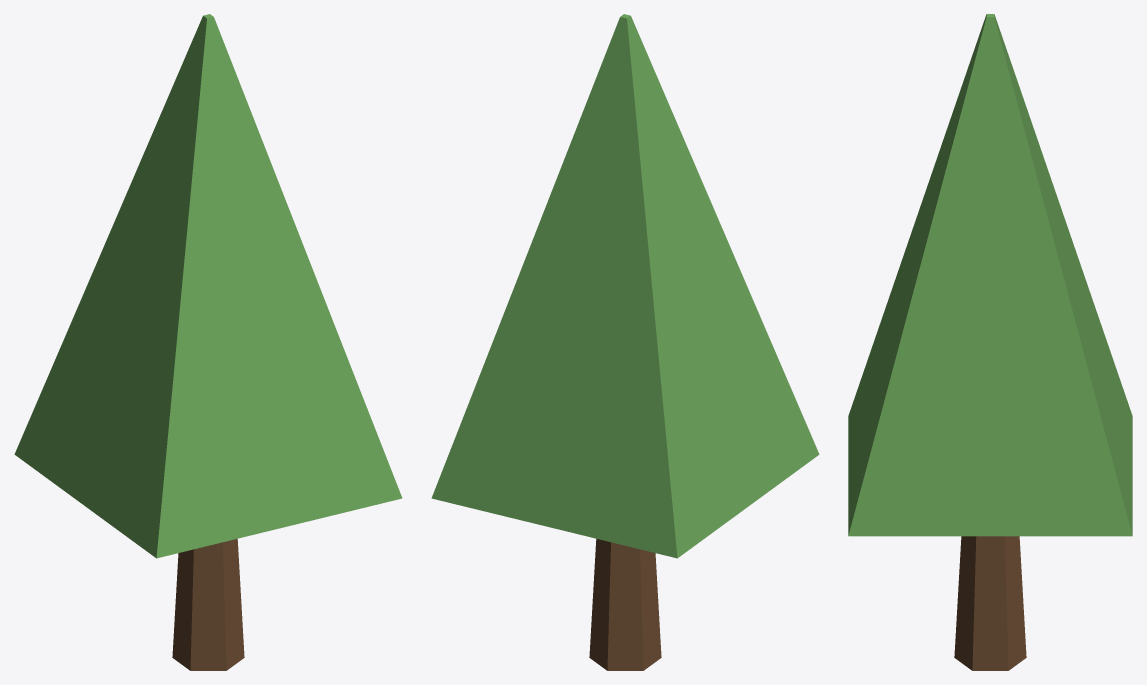
Rendered from Environment_Objects_Tree_07.fbx.
The picture shows the model from 3 angles, left to right: view 1: azimuth 30°, elevation 25°; view 2: azimuth 150°, elevation 25°; view 3: azimuth 270°, elevation 25°; orthographic projection.
Visible parts, largest first — view 1: Environment_Objects_Tree_07; view 2: Environment_Objects_Tree_07; view 3: Environment_Objects_Tree_07.
Boxes of the visible parts, box(x1,y1,x2,y2) form: Environment_Objects_Tree_07: box(14, 14, 402, 670); Environment_Objects_Tree_07: box(431, 14, 819, 670); Environment_Objects_Tree_07: box(848, 14, 1132, 670).
Size of the model in its own units: 161 by 400 by 161.
